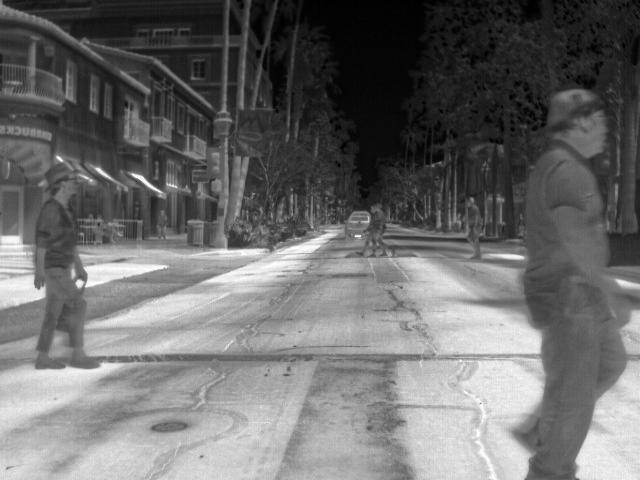car: (345, 209, 372, 236)
person: (507, 87, 631, 479), (34, 162, 100, 368), (463, 195, 484, 261), (374, 202, 395, 260), (356, 204, 376, 258), (156, 208, 170, 241), (516, 212, 528, 233)
